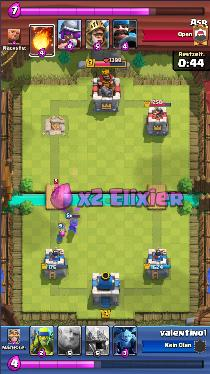ally_archer: (57, 229, 65, 242)
ally_musketeer: (66, 215, 77, 232)
enemy_archer: (51, 185, 60, 198)
